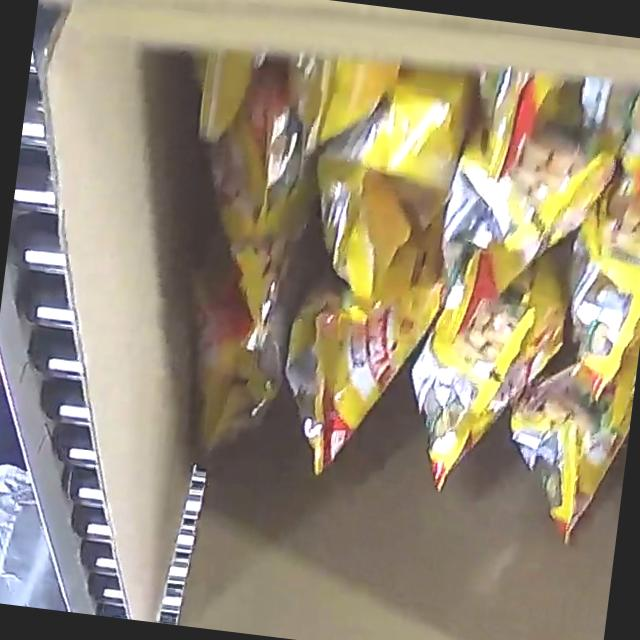salted: (147, 27, 640, 549)
